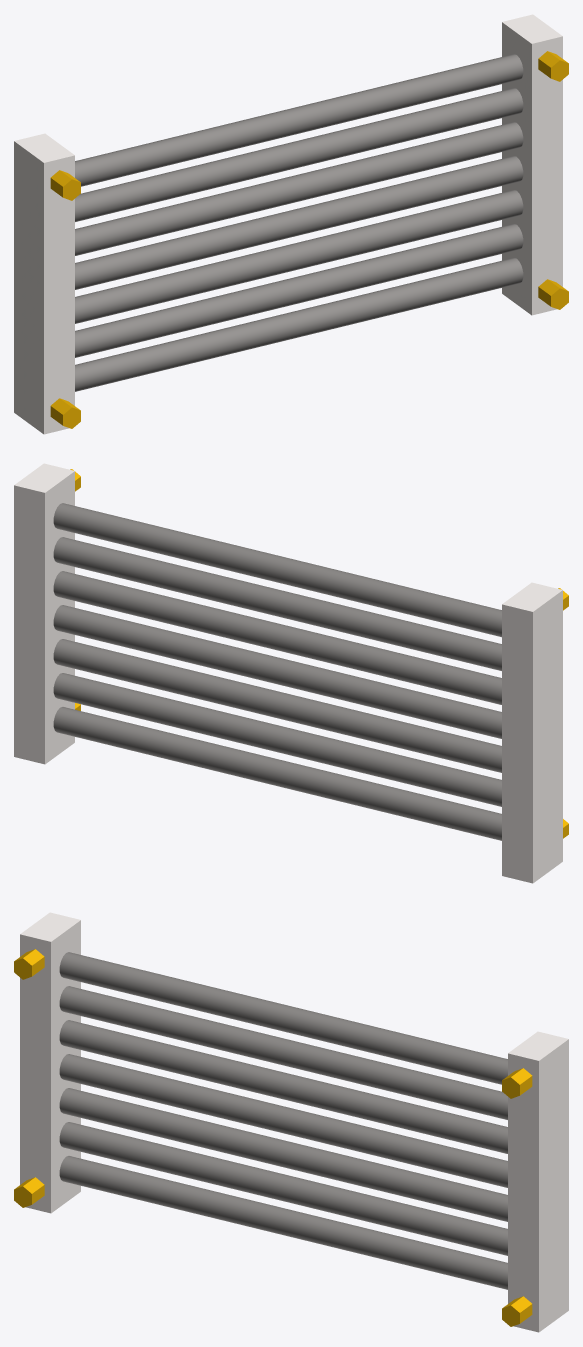
The model's file is roller_deck_agv_part_2.dae.
3 views of the same model, one above another, from view 1: azimuth 30°, elevation 25°; view 2: azimuth 150°, elevation 25°; view 3: azimuth 330°, elevation 25° (orthographic).
Visible parts, largest first — view 1: instance_0_008, instance_0_003, instance_0_004, instance_0_012, instance_0_009, instance_0_011, instance_0_010, instance_0_005, instance_0_002, instance_0_006, instance_0_001, instance_0 (+1 smaller); view 2: instance_0_008, instance_0_003, instance_0_004, instance_0_005, instance_0_002, instance_0_009, instance_0_011, instance_0_012, instance_0_010; view 3: instance_0_003, instance_0_008, instance_0_004, instance_0_012, instance_0_009, instance_0_011, instance_0_010, instance_0_005, instance_0_002, instance_0_001, instance_0_006, instance_0 (+1 smaller).
Part boxes in pixels (bbox=[...]): instance_0_008: bbox=[14, 133, 74, 434]; instance_0_003: bbox=[502, 14, 562, 315]; instance_0_004: bbox=[75, 122, 523, 255]; instance_0_012: bbox=[75, 156, 523, 289]; instance_0_009: bbox=[75, 258, 523, 391]; instance_0_011: bbox=[75, 190, 523, 323]; instance_0_010: bbox=[75, 224, 523, 357]; instance_0_005: bbox=[75, 88, 523, 221]; instance_0_002: bbox=[75, 54, 523, 186]; instance_0_006: bbox=[538, 51, 568, 81]; instance_0_001: bbox=[50, 170, 80, 200]; instance_0: bbox=[50, 398, 80, 428]; instance_0_008: bbox=[502, 582, 562, 883]; instance_0_003: bbox=[14, 463, 74, 764]; instance_0_004: bbox=[53, 571, 501, 704]; instance_0_005: bbox=[53, 537, 501, 670]; instance_0_002: bbox=[53, 503, 501, 637]; instance_0_009: bbox=[53, 707, 501, 840]; instance_0_011: bbox=[53, 639, 501, 772]; instance_0_012: bbox=[53, 605, 501, 738]; instance_0_010: bbox=[53, 673, 501, 806]; instance_0_003: bbox=[508, 1031, 568, 1332]; instance_0_008: bbox=[20, 912, 80, 1213]; instance_0_004: bbox=[59, 1020, 507, 1153]; instance_0_012: bbox=[59, 1054, 507, 1187]; instance_0_009: bbox=[59, 1156, 507, 1289]; instance_0_011: bbox=[59, 1088, 507, 1221]; instance_0_010: bbox=[59, 1122, 507, 1255]; instance_0_005: bbox=[59, 986, 507, 1119]; instance_0_002: bbox=[59, 952, 507, 1084]; instance_0_001: bbox=[14, 949, 44, 979]; instance_0_006: bbox=[502, 1068, 532, 1098]; instance_0: bbox=[14, 1177, 44, 1207].
Size of the model in its own units: 394 by 197 by 55.91.
